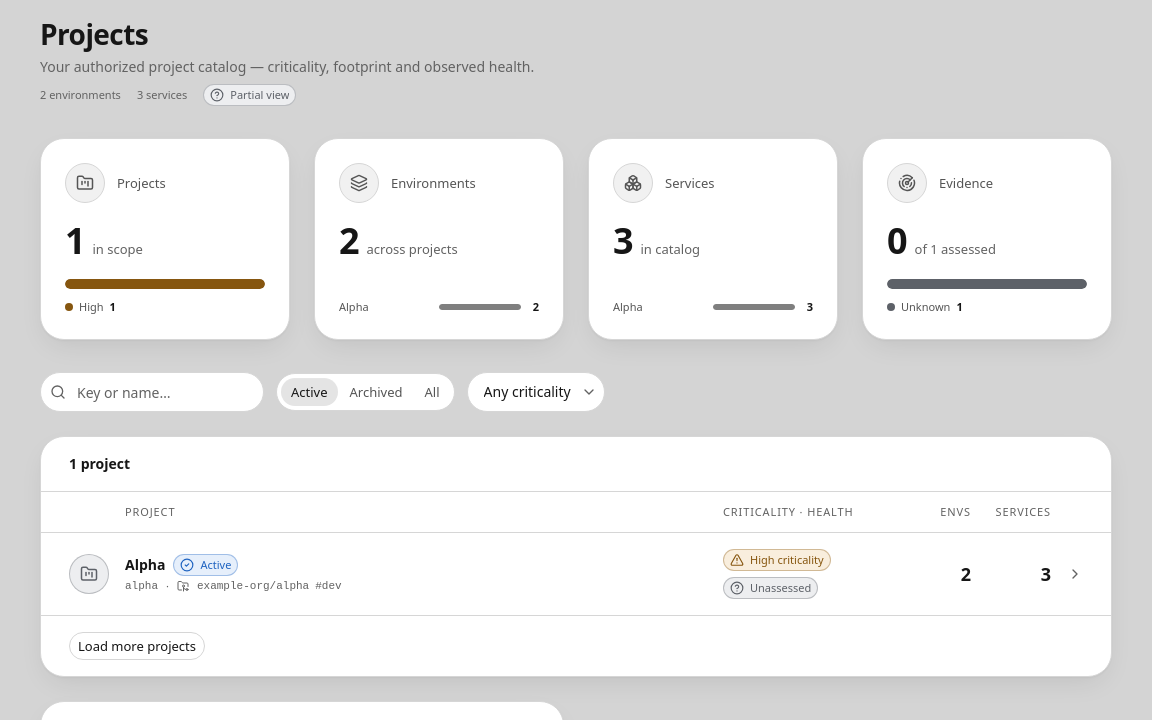
Test: catalog screens › project list: Load more projects fetches the next page only after the button is clicked
Check: the text "Alpha" below "across projects" is shown, box x1=339 y1=299 x2=369 y2=314
What coordinates should you click on to do the following:
click the button "Load more projects"
I would click on:
 (137, 646)
Its box is x1=69 y1=632 x2=205 y2=660.
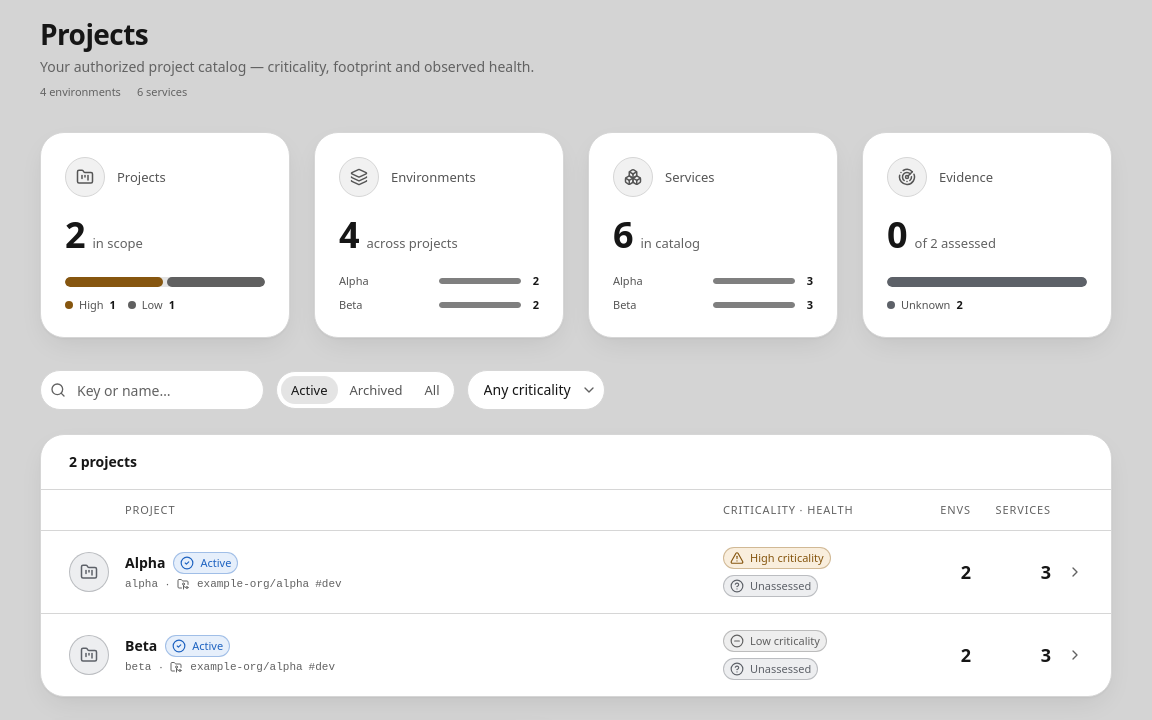
Check: the text "Alpha" below "across projects" is shown, box x1=339 y1=273 x2=369 y2=288
Check: the text "Beta" below "across projects" is shown, box x1=339 y1=297 x2=362 y2=312
